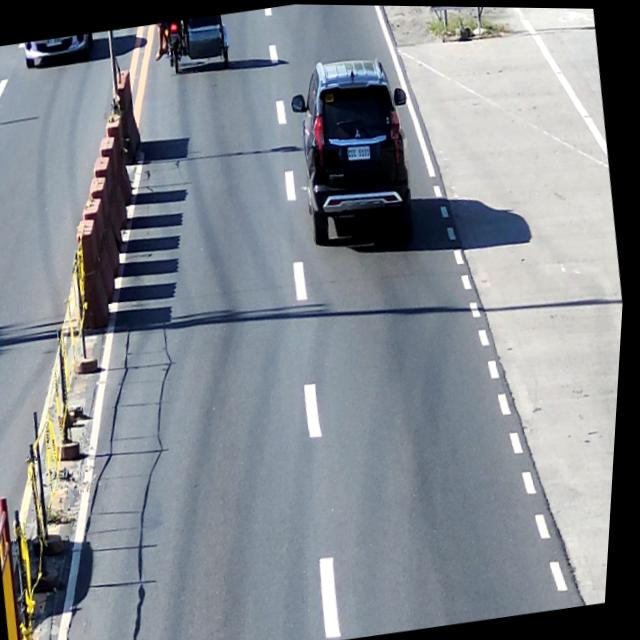Car: (285, 52, 426, 253), (21, 32, 99, 73)
License-Plate: (348, 141, 376, 165), (47, 37, 63, 49)
Tricycle: (154, 13, 236, 81)
